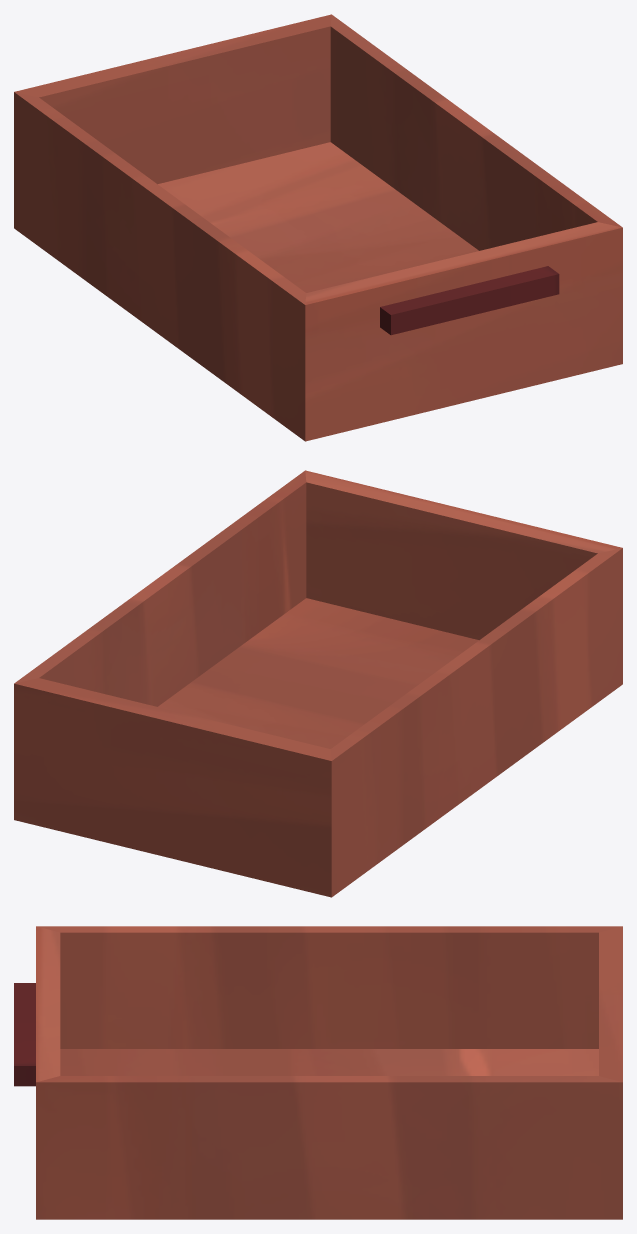
The model's file is drawer.fbx.
3 views of the same model, one above another, from view 1: azimuth 30°, elevation 25°; view 2: azimuth 150°, elevation 25°; view 3: azimuth 270°, elevation 25° (orthographic).
Parts seen in each view (by area): view 1: polySurface159; view 2: polySurface159; view 3: polySurface159.
Boxes of the visible parts, left/top/right/bottom form: polySurface159: left=14, top=14, right=622, bottom=441; polySurface159: left=14, top=470, right=622, bottom=897; polySurface159: left=14, top=926, right=622, bottom=1219.
Bounding box in the file's own units: 0.2791 × 0.1145 × 0.46.
